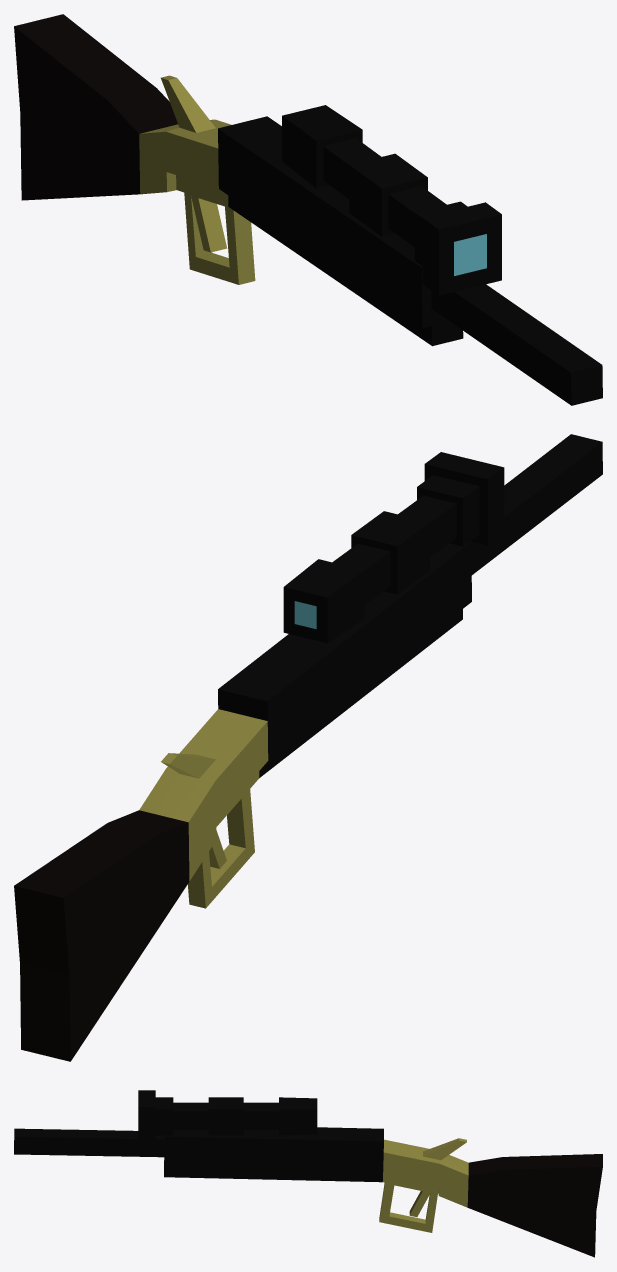
File: sniper_rifle.obj
The picture shows the model from 3 angles, top to bottom: view 1: azimuth 30°, elevation 25°; view 2: azimuth 150°, elevation 25°; view 3: azimuth 270°, elevation 25°; orthographic projection. The views are drawn at different scales.
Parts seen in each view (by area): view 1: big_gun, Cube; view 2: big_gun, Cube; view 3: big_gun, Cube.
Boxes of the visible parts, x1,y1,x2,y2 form: big_gun: [14, 14, 602, 405]; Cube: [282, 105, 501, 295]; big_gun: [14, 434, 602, 1061]; Cube: [283, 452, 504, 643]; big_gun: [14, 1127, 602, 1257]; Cube: [138, 1090, 317, 1142].
Bounding box in the file's own units: 0.1016 × 0.4361 × 1.53.
